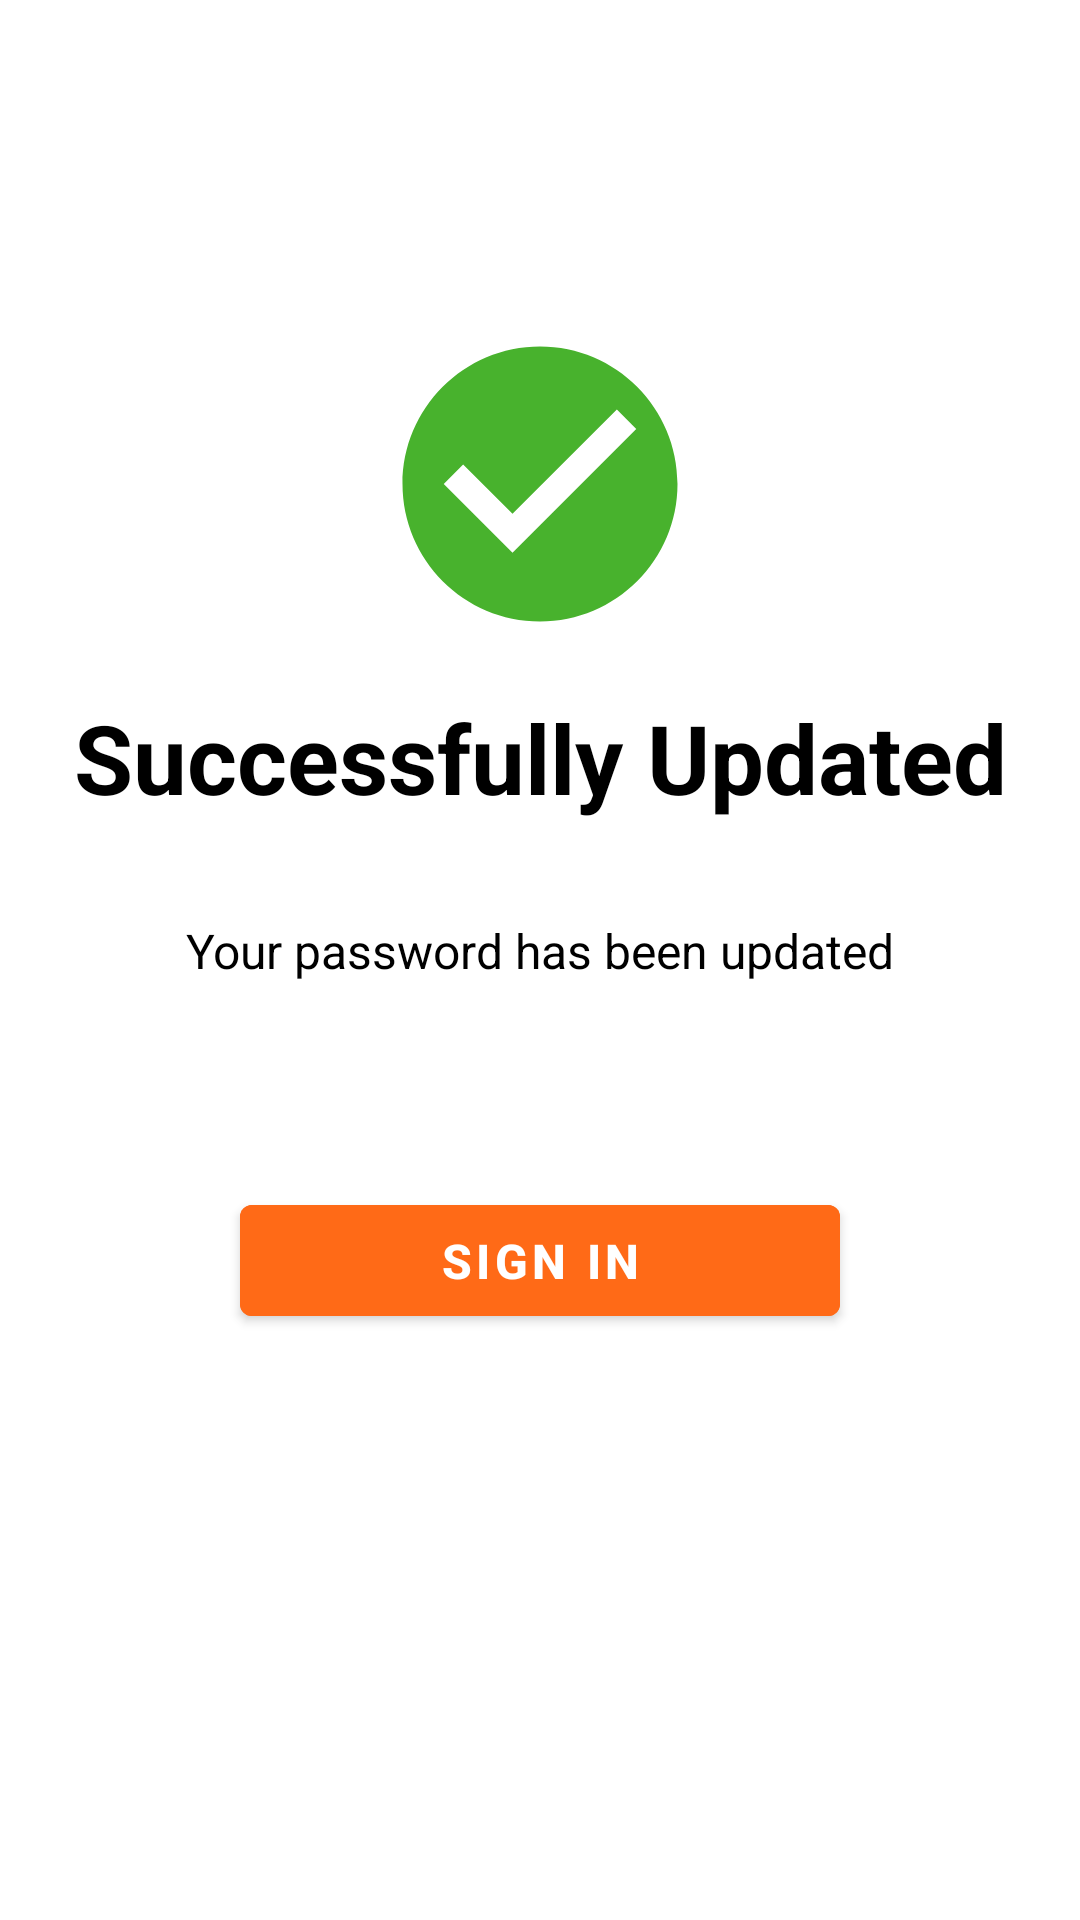

Where icons sit on this 1080 × 1920 app screen, as bbox=(x1, y1, x2, y2):
correct: bbox=(402, 346, 678, 622)
